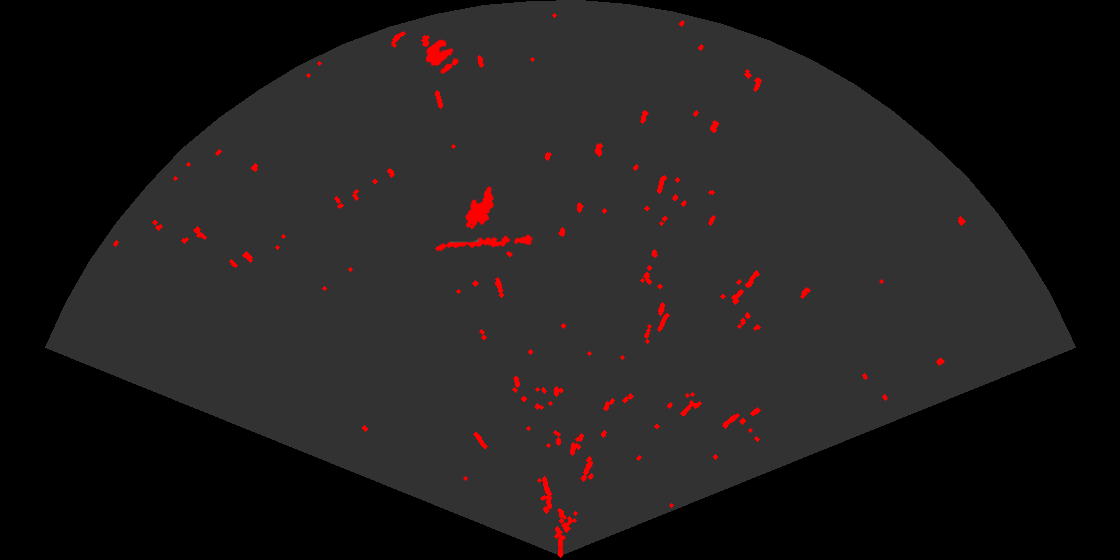AUV: (464, 185, 495, 231)
ball: (424, 38, 460, 75)
chain: (433, 233, 534, 253)
